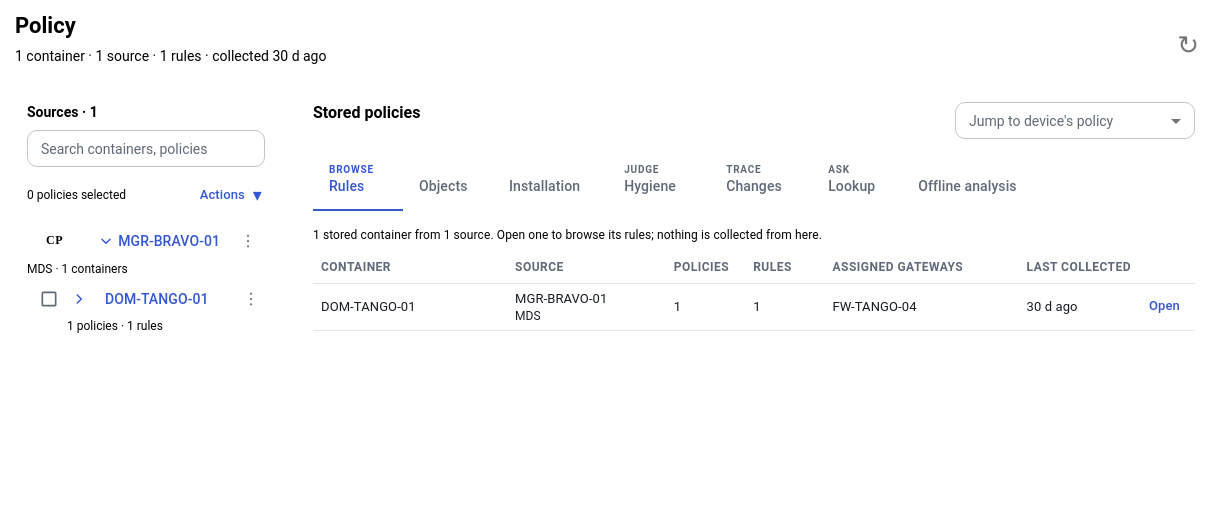
Scenario: offers domain collection with its opaque reference and reports queue refusal
Click the button "DOM-TANGO-01" at (140, 299), box 63,281 -> 216,318
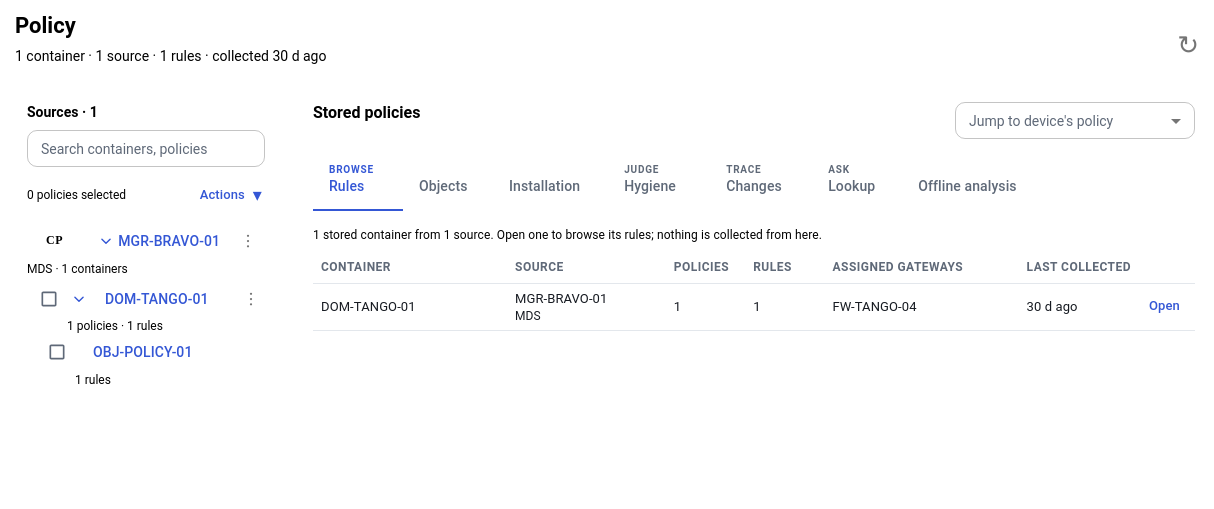
Click the button "OBJ-POLICY-01" at (168, 352), box 71,334 -> 265,370
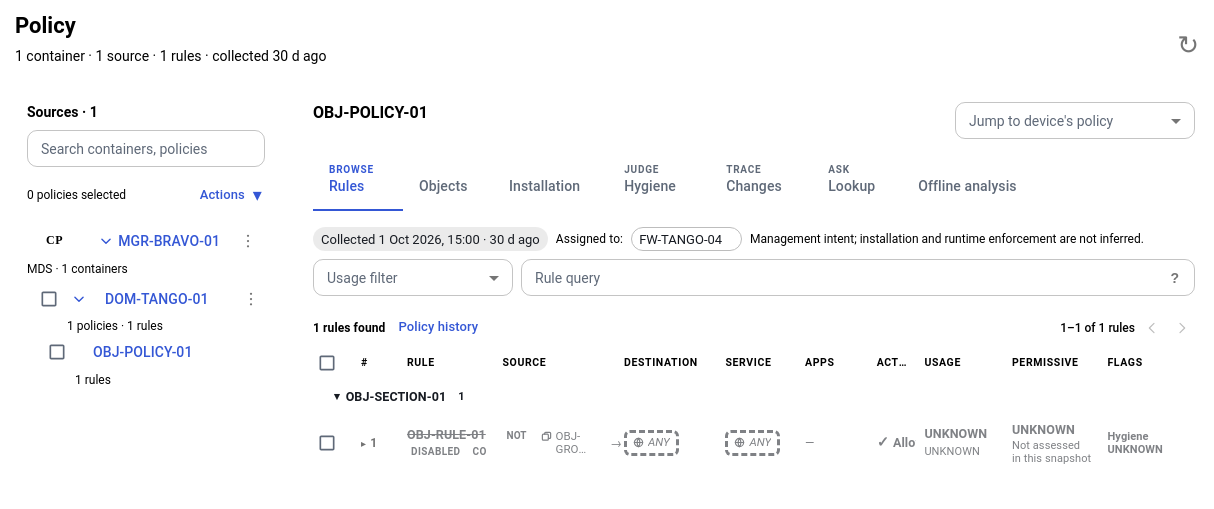
Check: the element named "Policy rulebase" is shown, box 313,347 -> 1195,471
Click the button named "Collection actions for " at (251, 299), box 237,285 -> 265,313
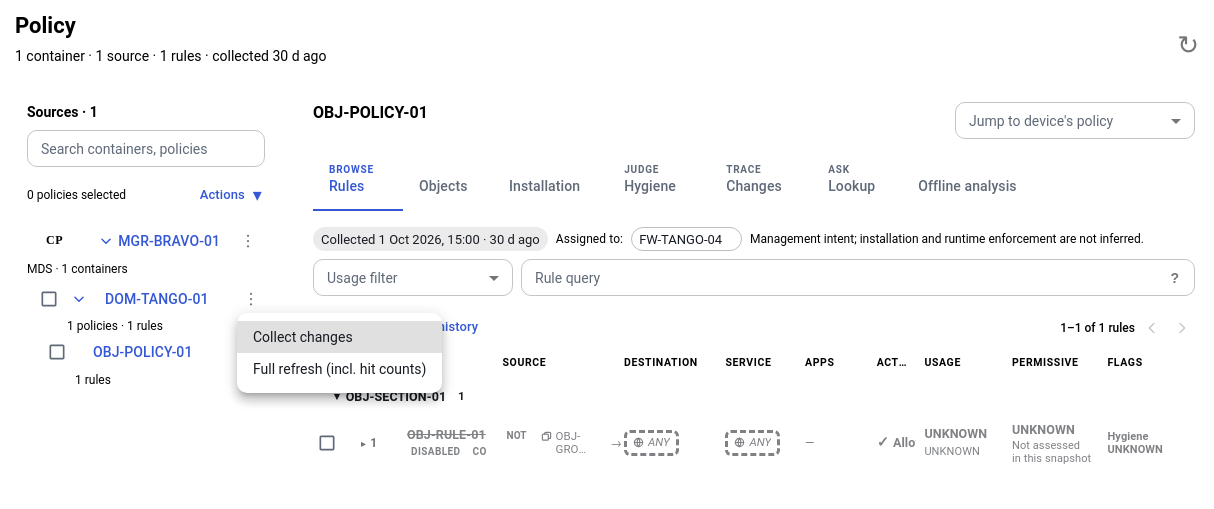
Click the menu item "Collect changes" at (340, 337), box 237,321 -> 442,353
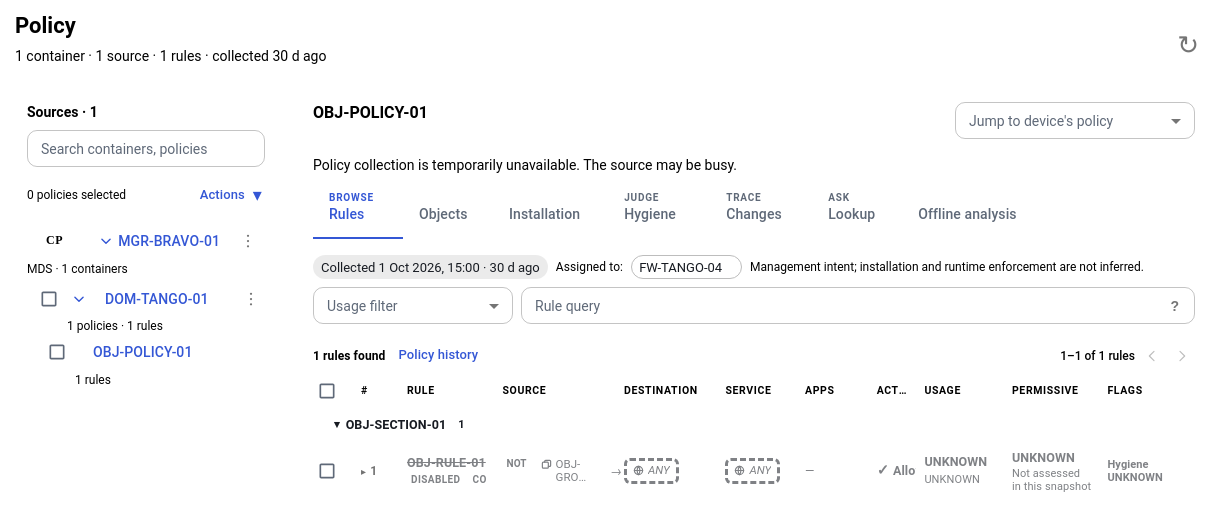
Check: the text "Policy collection is temporarily unavailable. The source may be busy." is shown, box 313,157 -> 737,173
